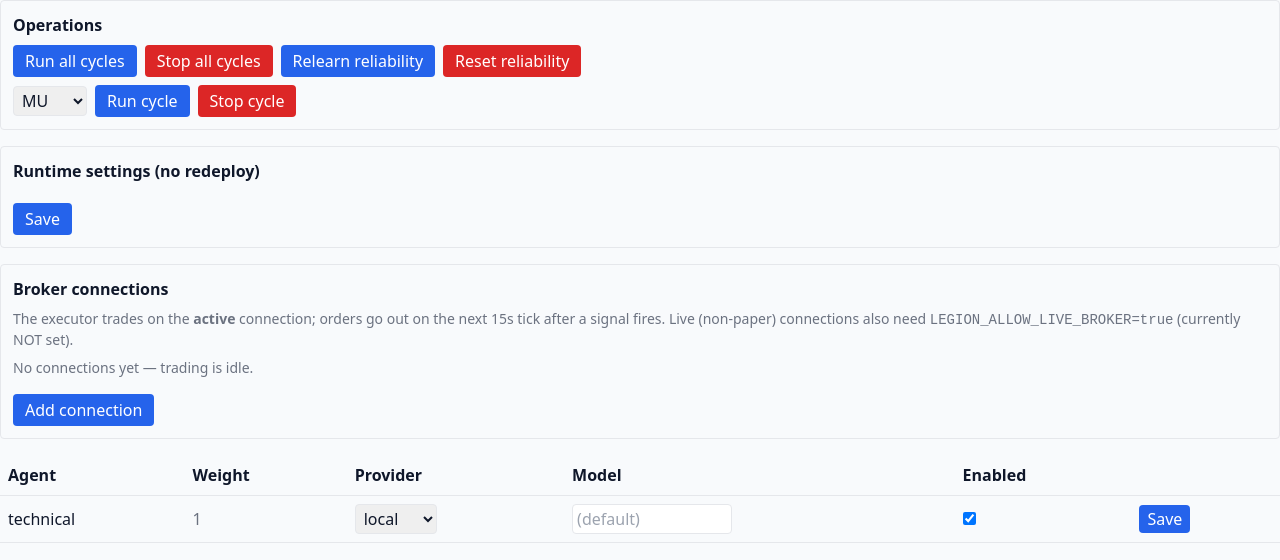
Test: AgentConfig › stops all cycles from the operations row
This screenshot has width=1280, height=560.
Click the button with aria-label "stop-all-cycles". click: (209, 61)
box: 145,45 -> 273,77
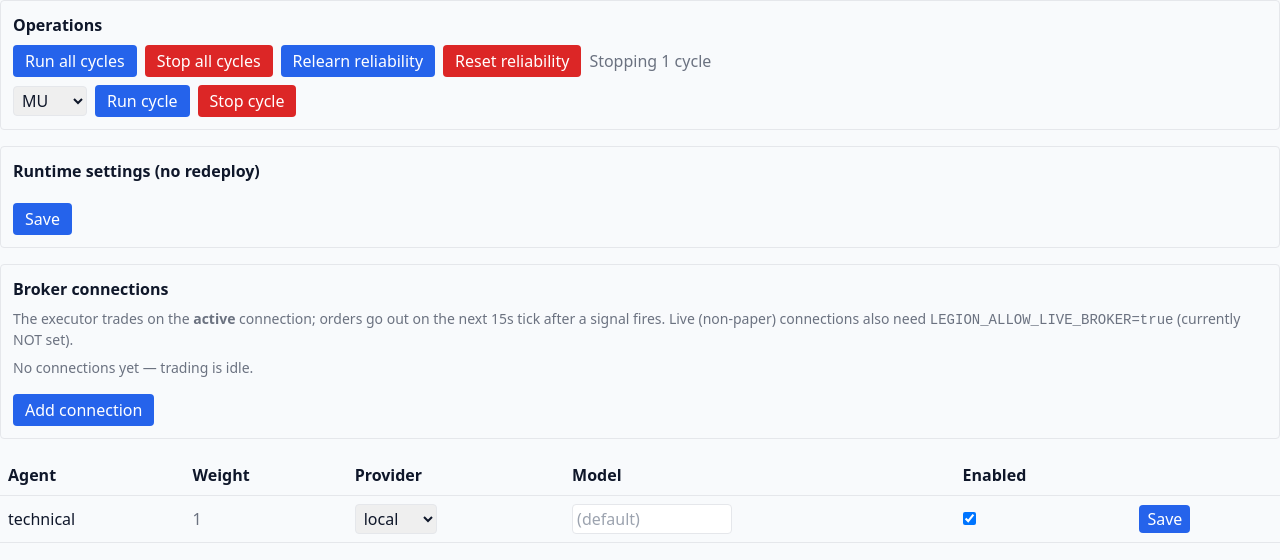
Expected: the text "Stopping 1 cycle" is shown, 589,49 -> 711,73
